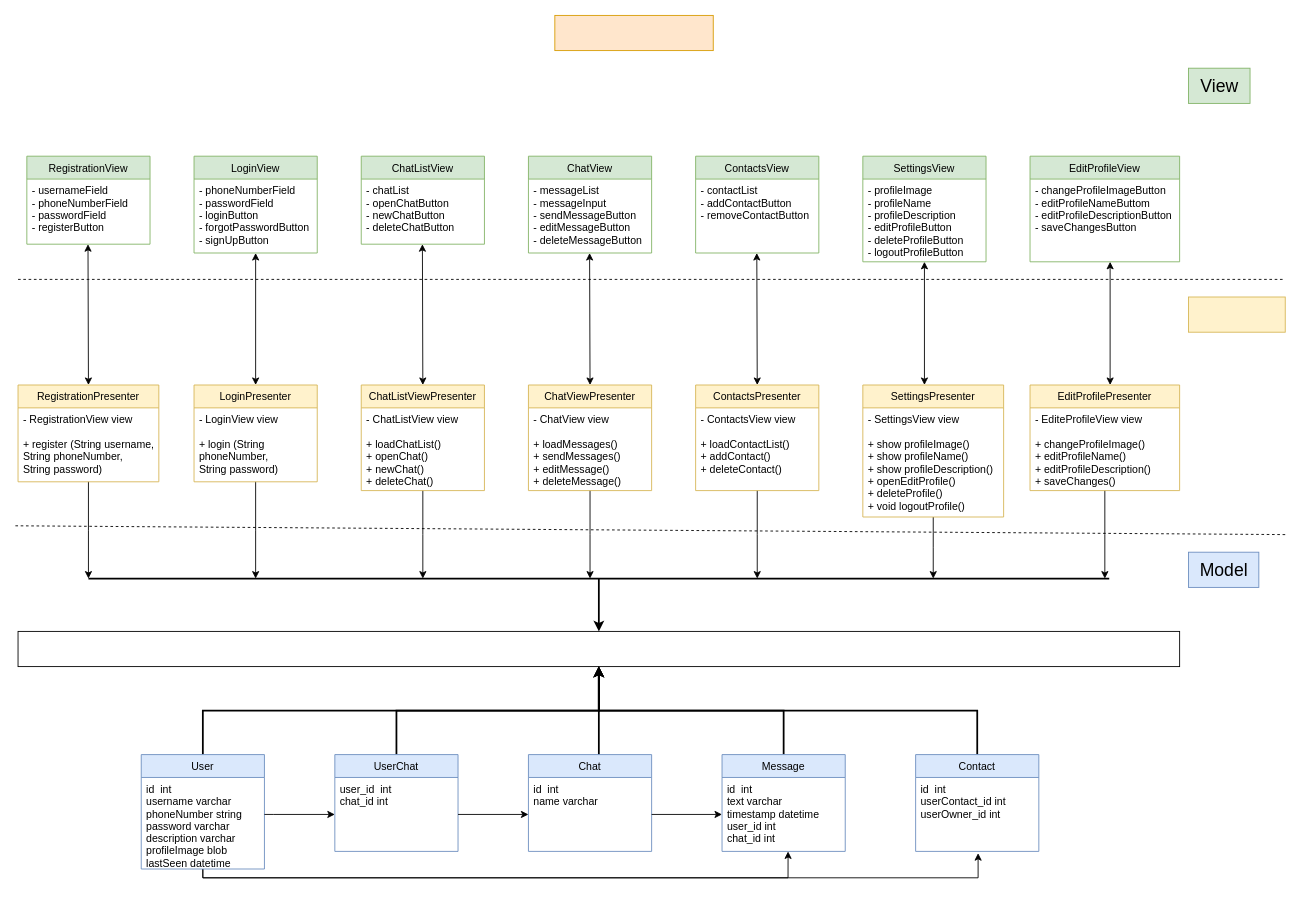
Some shapes in this 1302 by 900 pixel diagram are drawn without their labels. The shapes that lost their labels are listed below. From the top down, each one's centre as x and y in pixels, then its label:
the point at 633,33: UML - диаграмма
the point at 1236,314: Presenter
the point at 598,649: Database
